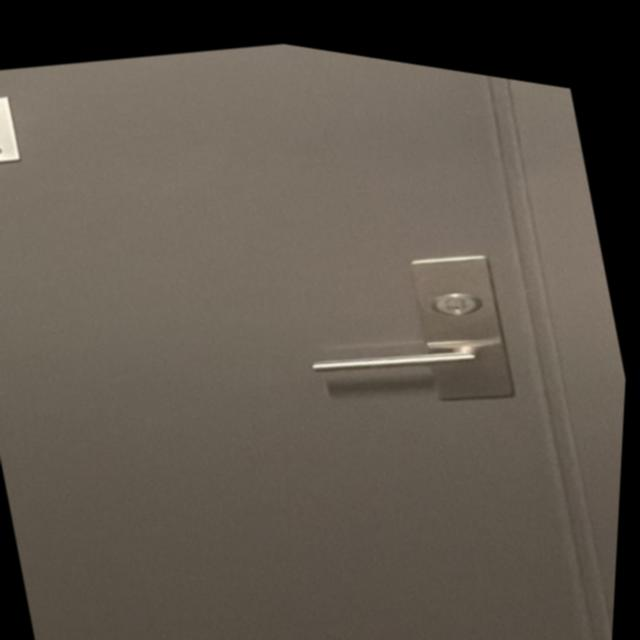door_handle: (295, 273, 535, 410)
